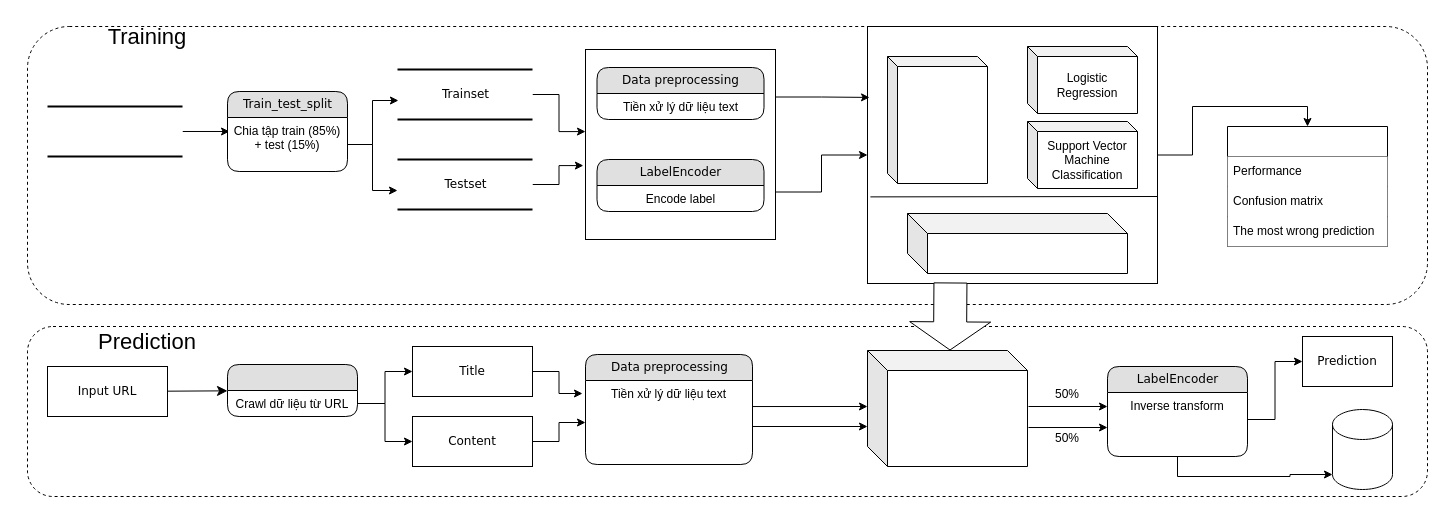
This 1445x514 diagram has some shape labels left out. The box of each missing label's shape, as (x1, y1, x2, y2) in pixels:
Emsemble Classifier: (866, 350, 1028, 466)
LinkInfo: (226, 364, 358, 416)
Log: (1332, 408, 1392, 490)
Model Evaluation: (1226, 126, 1388, 246)
Neural Network Embeddings: (906, 212, 1128, 274)
Raw Data: (46, 105, 183, 157)
TF-IDF vectorization ( Feature extraction ): (886, 56, 988, 184)
